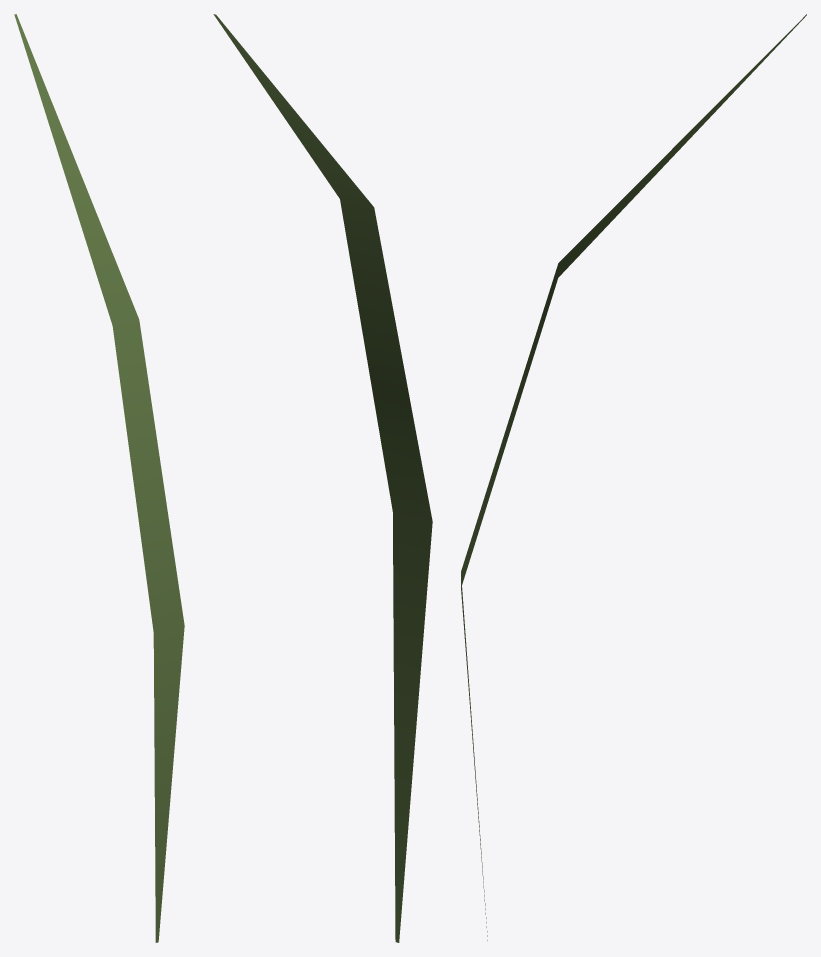
The model's file is grass2.fbx.
The picture shows the model from 3 angles, left to right: view 1: azimuth 30°, elevation 25°; view 2: azimuth 150°, elevation 25°; view 3: azimuth 270°, elevation 25°; orthographic projection. The views are drawn at different scales.
Visible parts, largest first — view 1: Grass; view 2: Grass; view 3: Grass.
Boxes of the visible parts, x1,y1,x2,y2 form: Grass: (14, 14, 184, 942); Grass: (213, 14, 432, 942); Grass: (461, 14, 806, 940).
Bounding box in the file's own units: 0.0335 × 0.854 × 0.2887.
